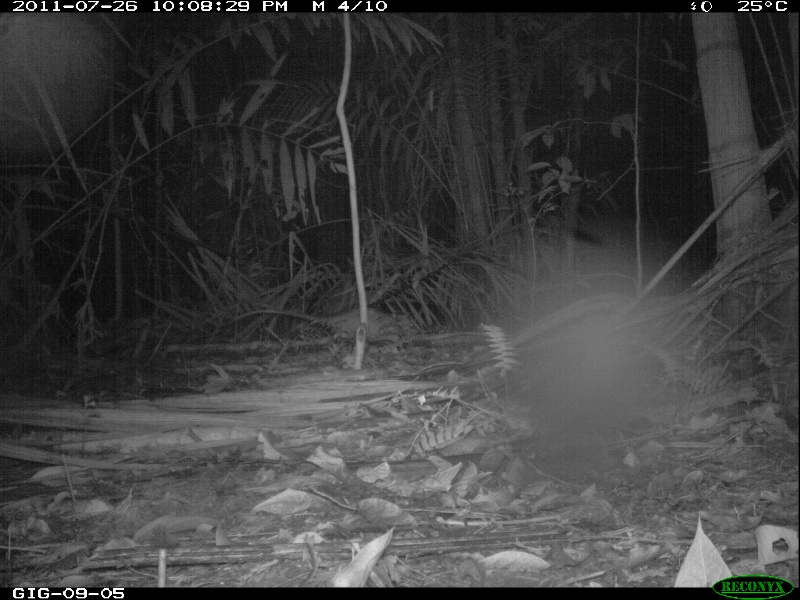opossum: (229, 304, 429, 346)
